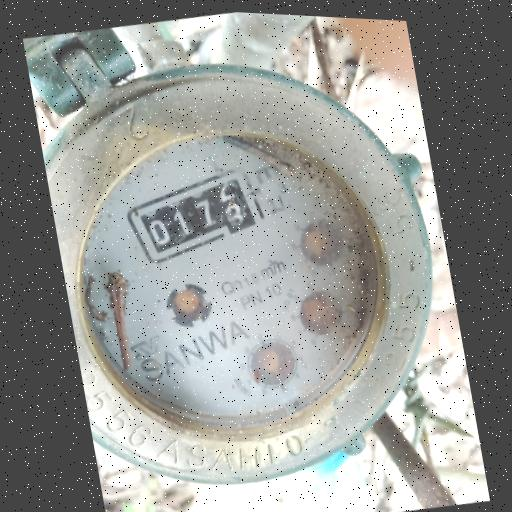0: (139, 204, 176, 251)
1: (164, 197, 195, 239)
2: (211, 176, 250, 233)
7: (188, 188, 218, 230)
border_water_meter_number: (116, 153, 278, 277)
